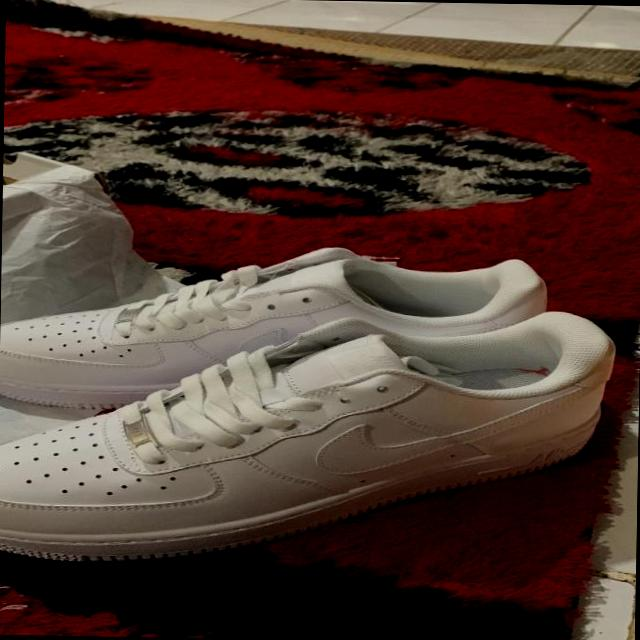nike_original_airforce: (0, 301, 613, 569), (0, 238, 550, 418)
